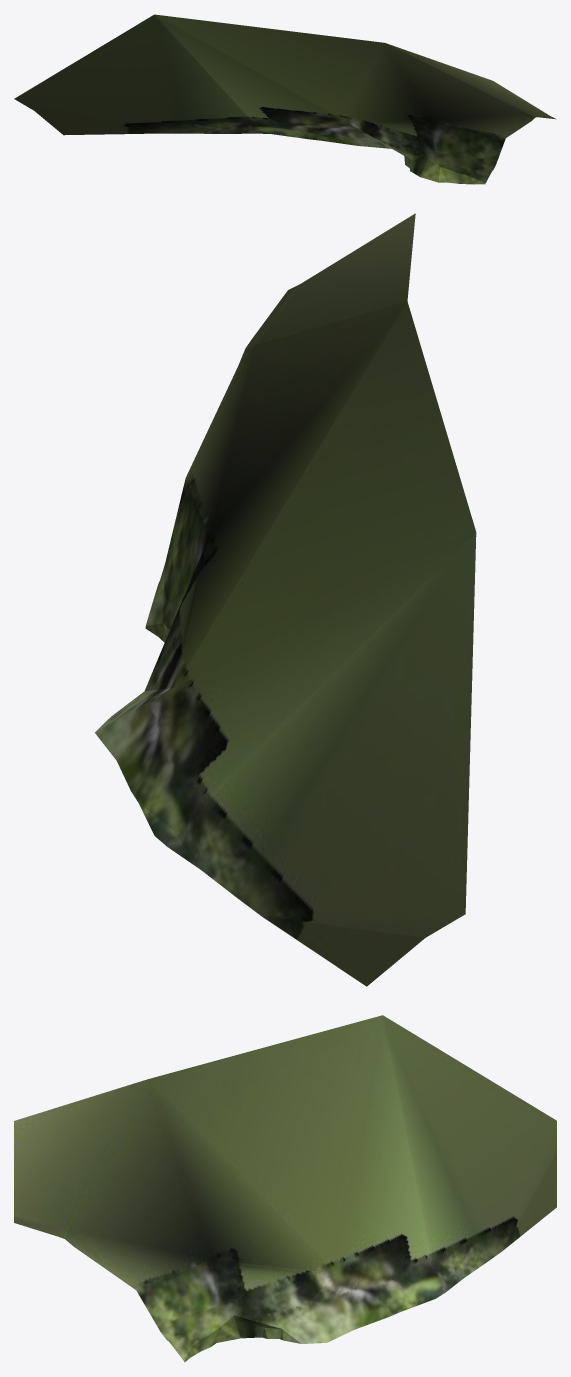
The picture shows the model from 3 angles, top to bottom: view 1: azimuth 30°, elevation 25°; view 2: azimuth 150°, elevation 25°; view 3: azimuth 270°, elevation 25°; orthographic projection. The views are drawn at different scales.
Bounding box in the file's own units: 20.97 × 11.47 × 26.11.
Materials: 2 (2 with a texture image).
